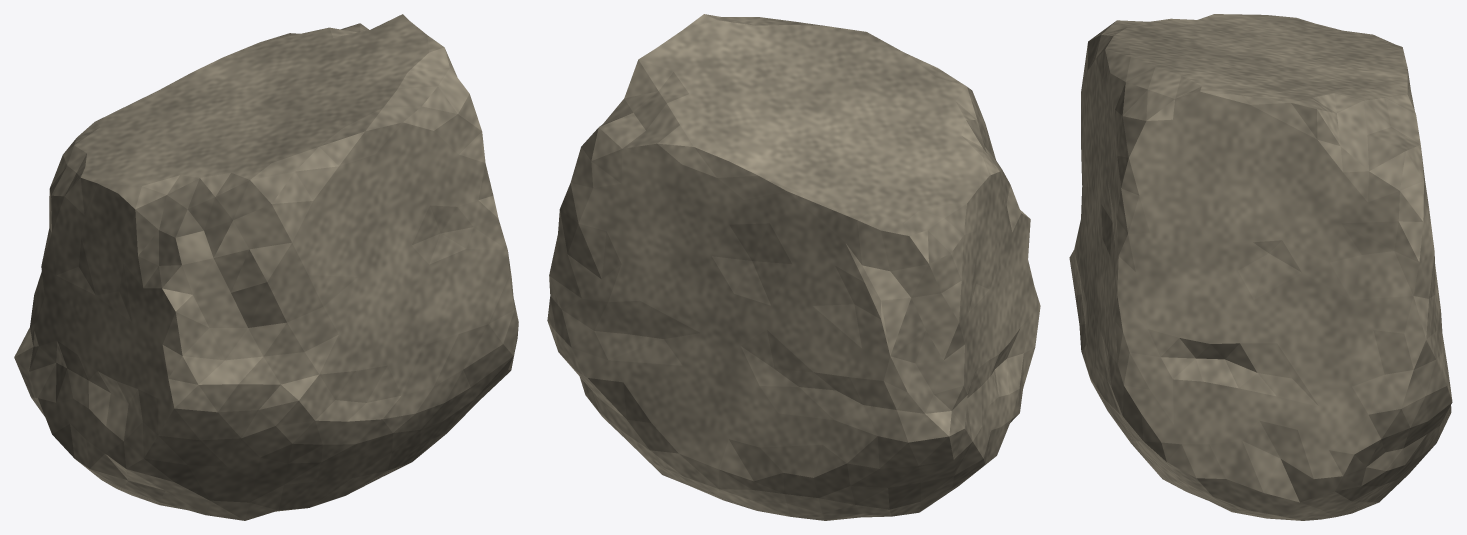
File: pacific-outcrop.glb
3 renders of one model, left to right at view 1: azimuth 30°, elevation 25°; view 2: azimuth 150°, elevation 25°; view 3: azimuth 270°, elevation 25°, orthographic. The views are drawn at different scales.
Visible parts, largest first — view 1: LifeRoot_Coastal sandstone mineral; view 2: LifeRoot_Coastal sandstone mineral; view 3: LifeRoot_Coastal sandstone mineral.
Part boxes in pixels (bbox=[...]): LifeRoot_Coastal sandstone mineral: bbox=[14, 14, 518, 520]; LifeRoot_Coastal sandstone mineral: bbox=[547, 14, 1040, 520]; LifeRoot_Coastal sandstone mineral: bbox=[1069, 14, 1452, 520].
Size of the model in its own units: 2.66 by 2.56 by 2.01.
1 material, 1 textured.
